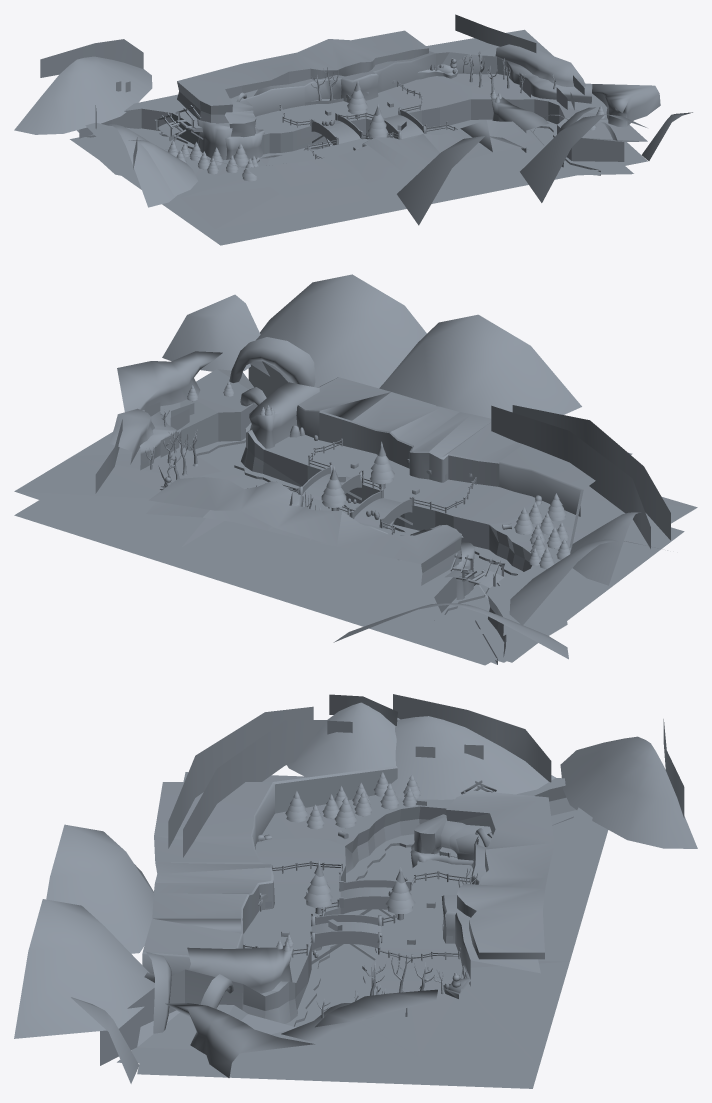
File: gltf__Models__map__Ice__twobridge__ice_twobridge.glb
3 views of the same model, one above another, from view 1: azimuth 30°, elevation 25°; view 2: azimuth 150°, elevation 25°; view 3: azimuth 270°, elevation 25° (orthographic). The views are drawn at different scales.
Parts seen in each view (by area): view 1: twobridge_normalMesh, twobridge_alphaMesh; view 2: twobridge_normalMesh, twobridge_alphaMesh; view 3: twobridge_normalMesh, twobridge_alphaMesh.
Boxes of the visible parts, <box> form: twobridge_normalMesh: <box>14,29,692,245</box>; twobridge_alphaMesh: <box>40,14,605,181</box>; twobridge_normalMesh: <box>14,274,697,665</box>; twobridge_alphaMesh: <box>95,381,670,569</box>; twobridge_normalMesh: <box>14,702,697,1088</box>; twobridge_alphaMesh: <box>168,694,684,1018</box>.
Size of what is drawn, in the model's own units: 64.53 by 11.69 by 55.11.
Materials: 3 (3 with a texture image).
